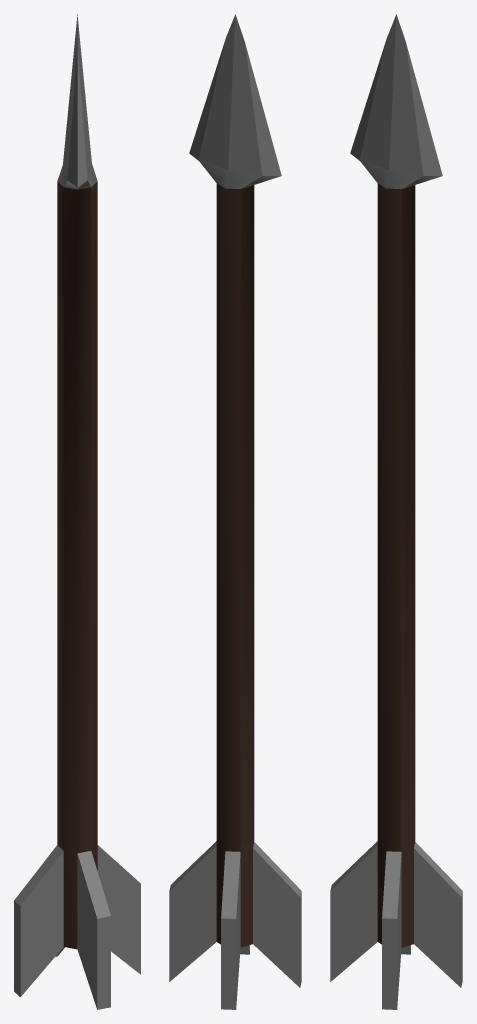
3 renders of one model, left to right at view 1: azimuth 90°, elevation 25°; view 2: azimuth 150°, elevation 25°; view 3: azimuth 330°, elevation 25°, orthographic.
Visible parts, largest first — view 1: Box008; view 2: Box008; view 3: Box008.
Boxes of the visible parts, x1,y1,x2,y2 form: Box008: (14,14,140,1009); Box008: (169,14,301,1009); Box008: (330,14,462,1009).
Size of the model in its own units: 18.76 by 18.76 by 158.
